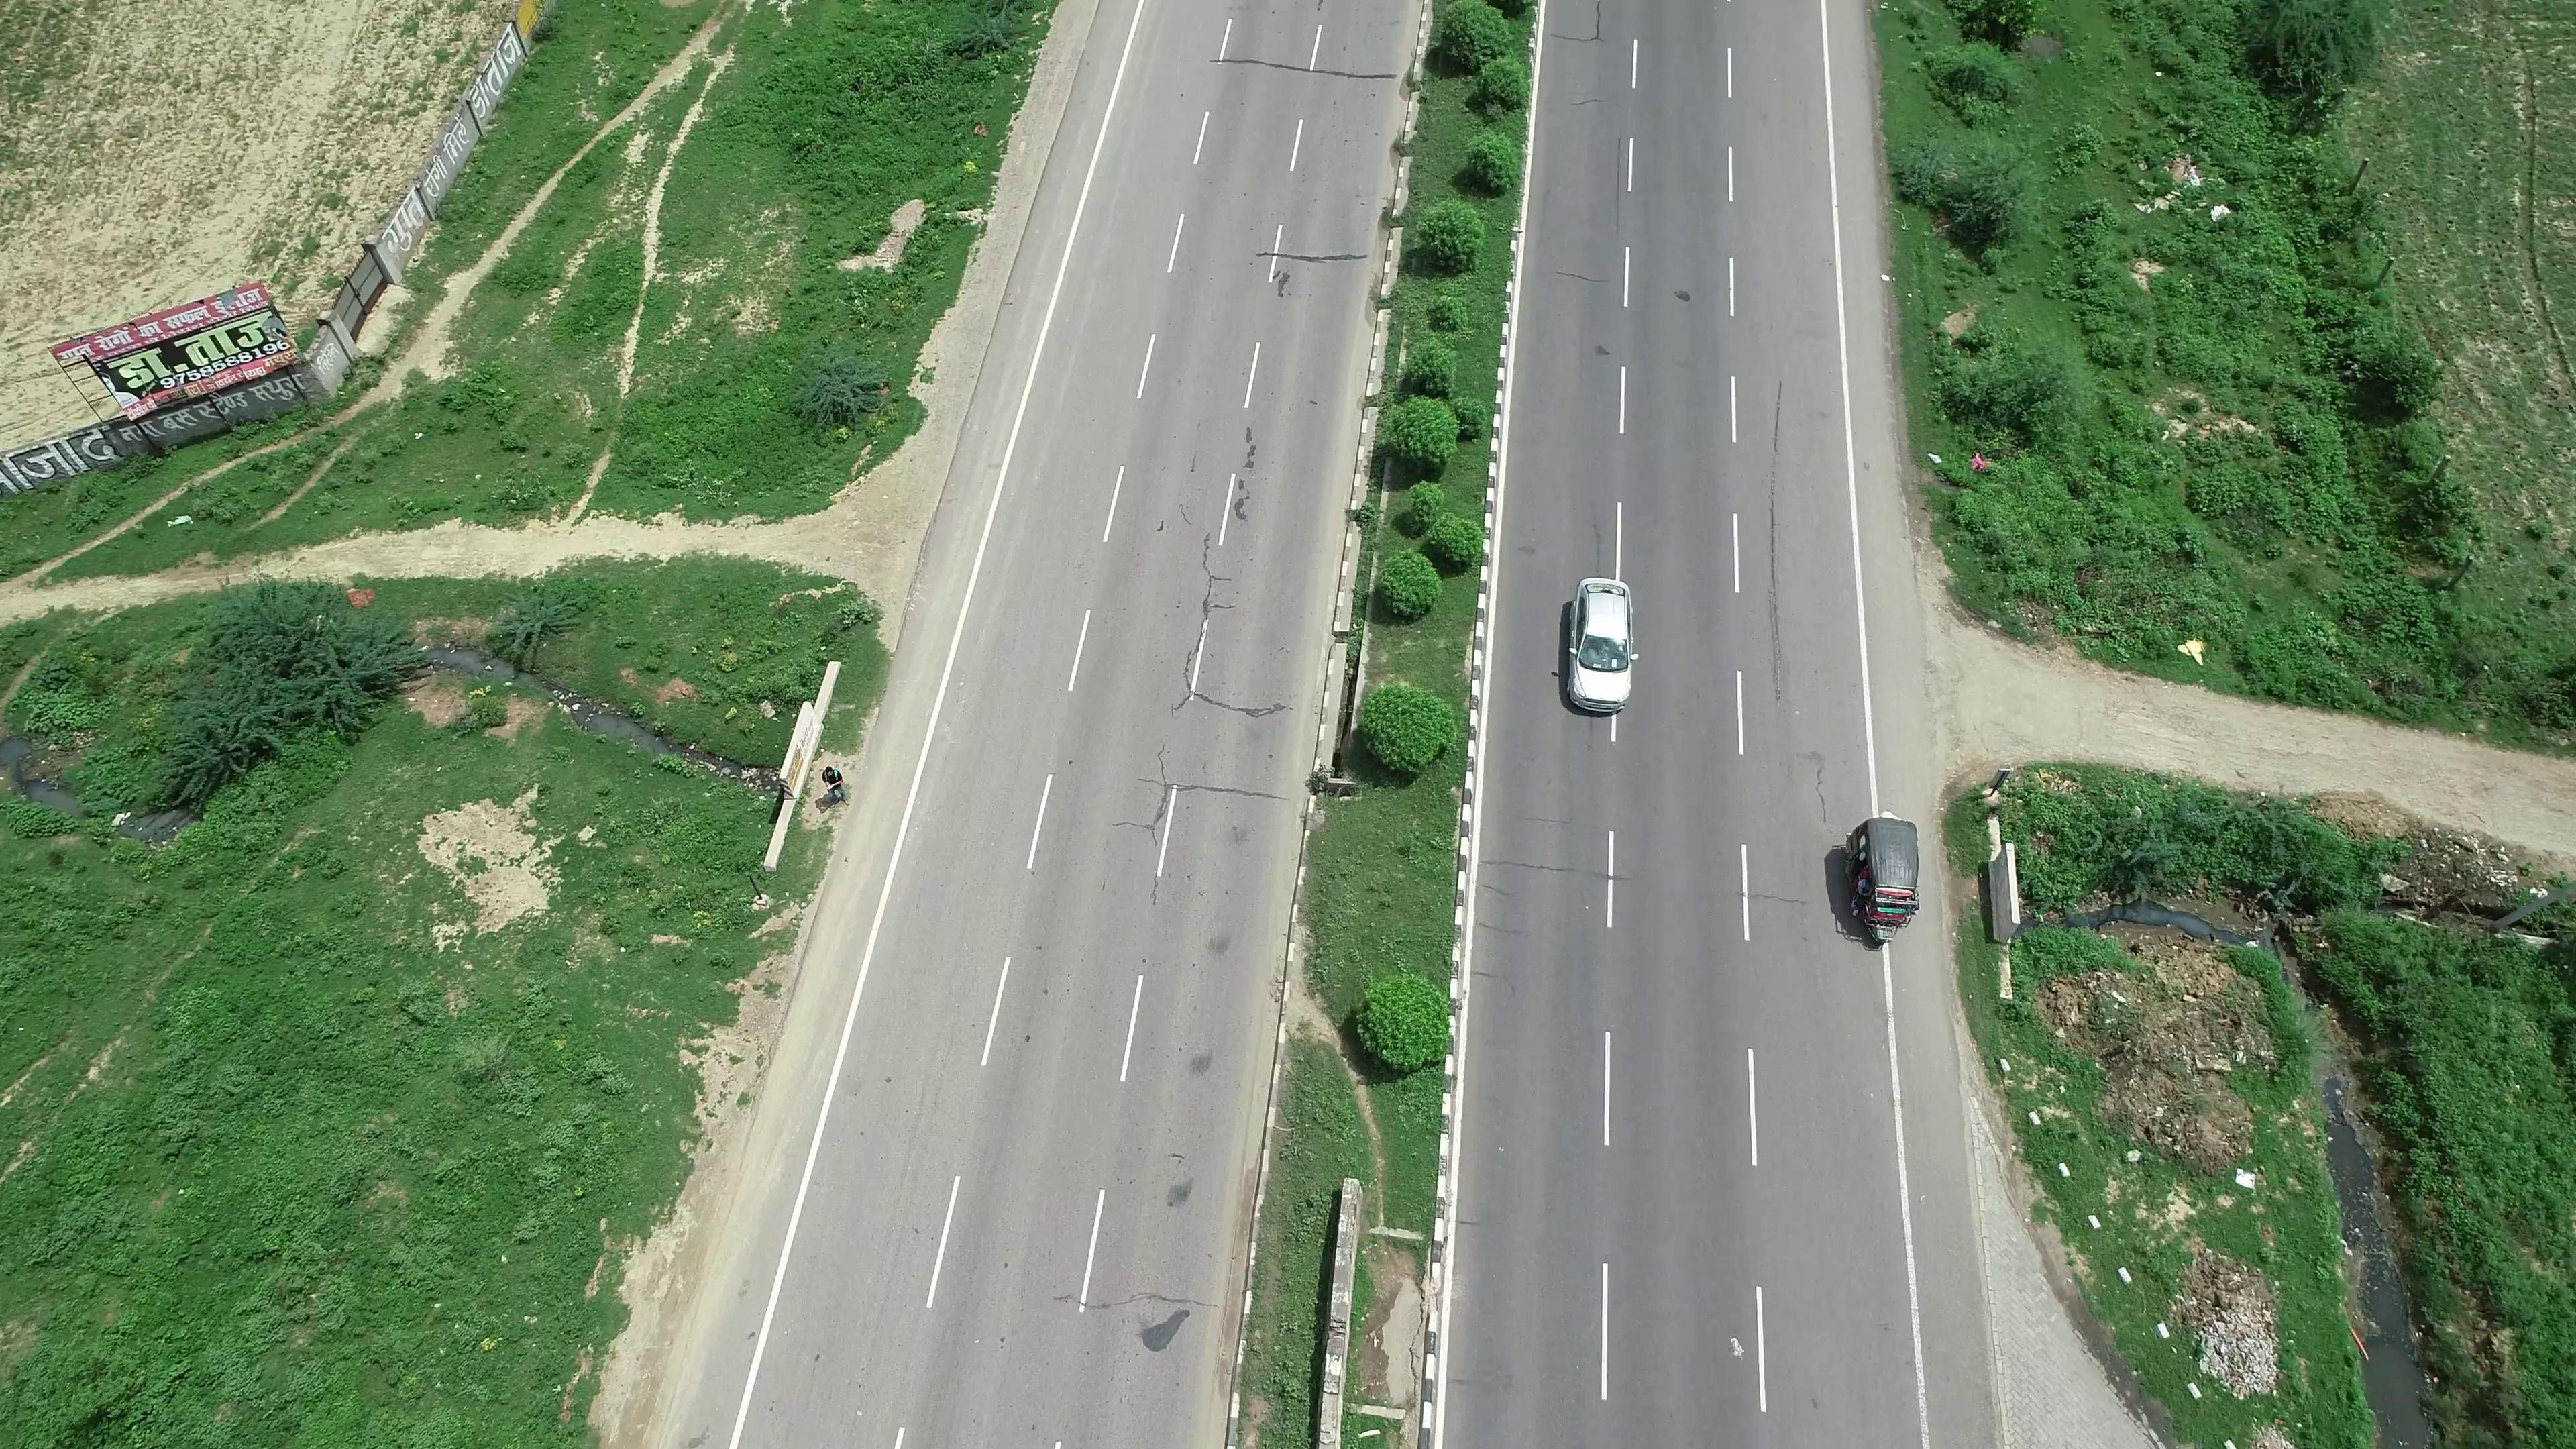Longitudinal_cracks: (1182, 527, 1283, 736), (1129, 743, 1292, 840), (1762, 377, 1796, 681)
